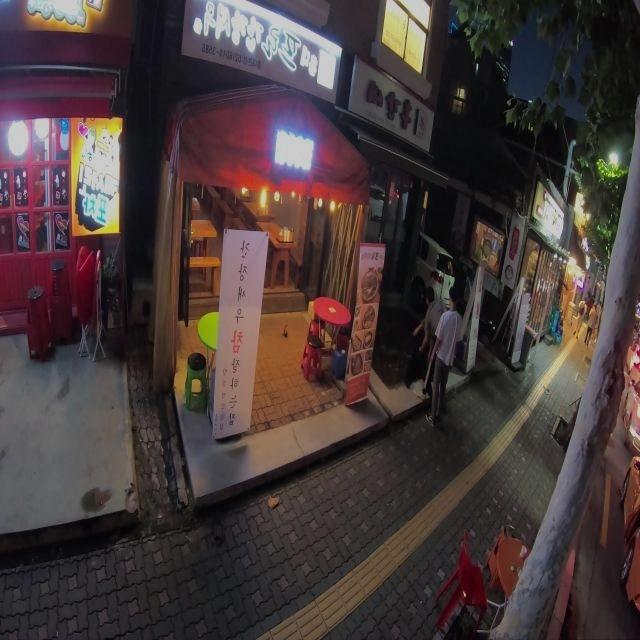non-fight: (421, 286, 466, 426), (412, 280, 448, 400)
